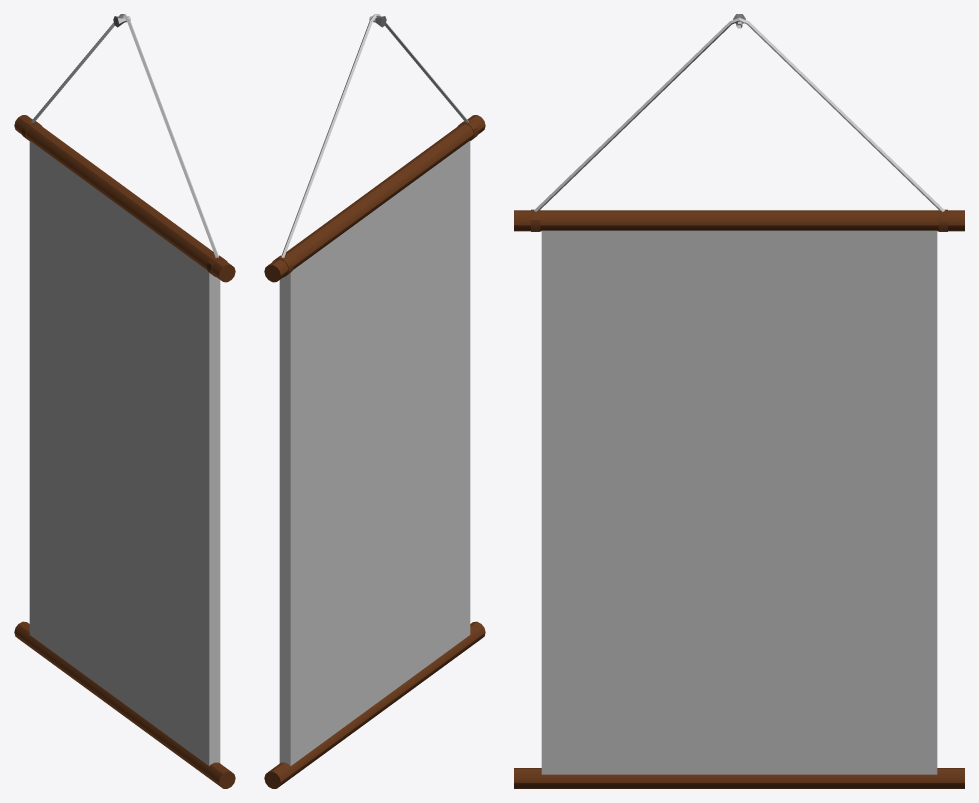
The picture shows the model from 3 angles, left to right: view 1: azimuth 30°, elevation 25°; view 2: azimuth 150°, elevation 25°; view 3: azimuth 270°, elevation 25°; orthographic projection. The views are drawn at different scales.
Parts seen in each view (by area): view 1: Circle.001; view 2: Circle.001; view 3: Circle.001.
Part boxes in pixels (box(x1,y1,x2,y2)): Circle.001: box(14, 14, 235, 788); Circle.001: box(264, 14, 485, 788); Circle.001: box(514, 14, 964, 788).
Size of the model in its own units: 0.3824 by 14.39 by 7.63.
